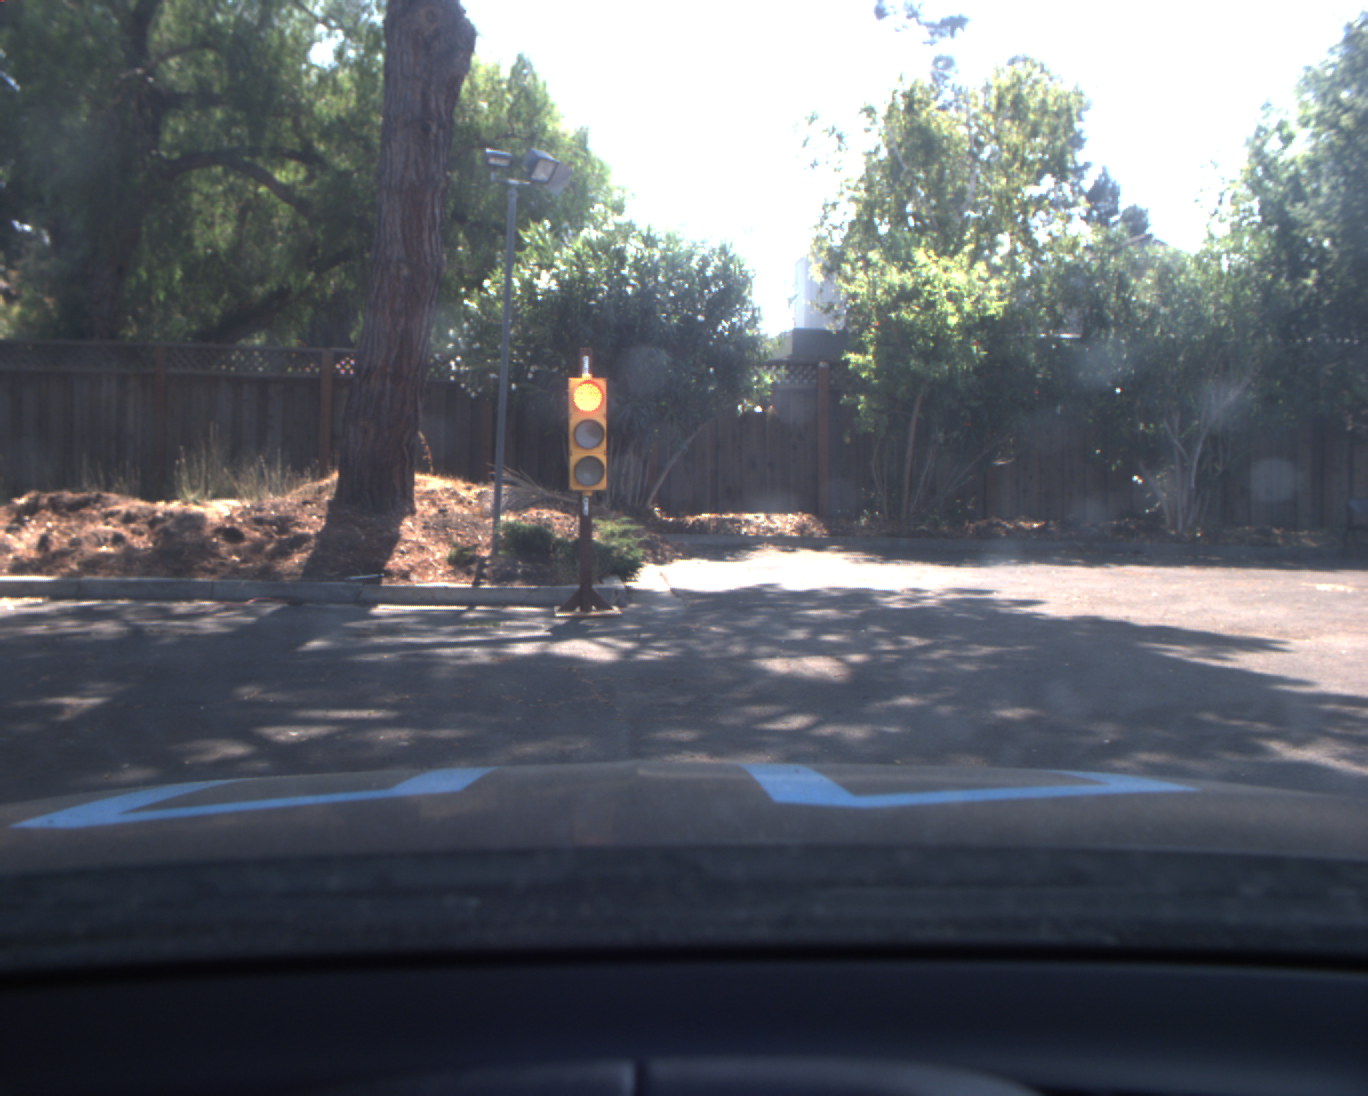red: (562, 372, 613, 494)
